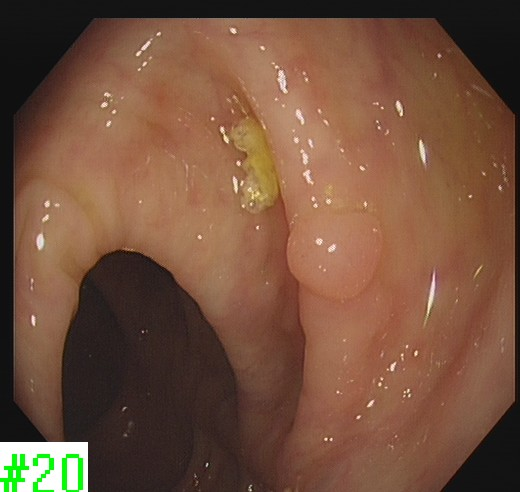adenoma: (284, 209, 385, 301)
